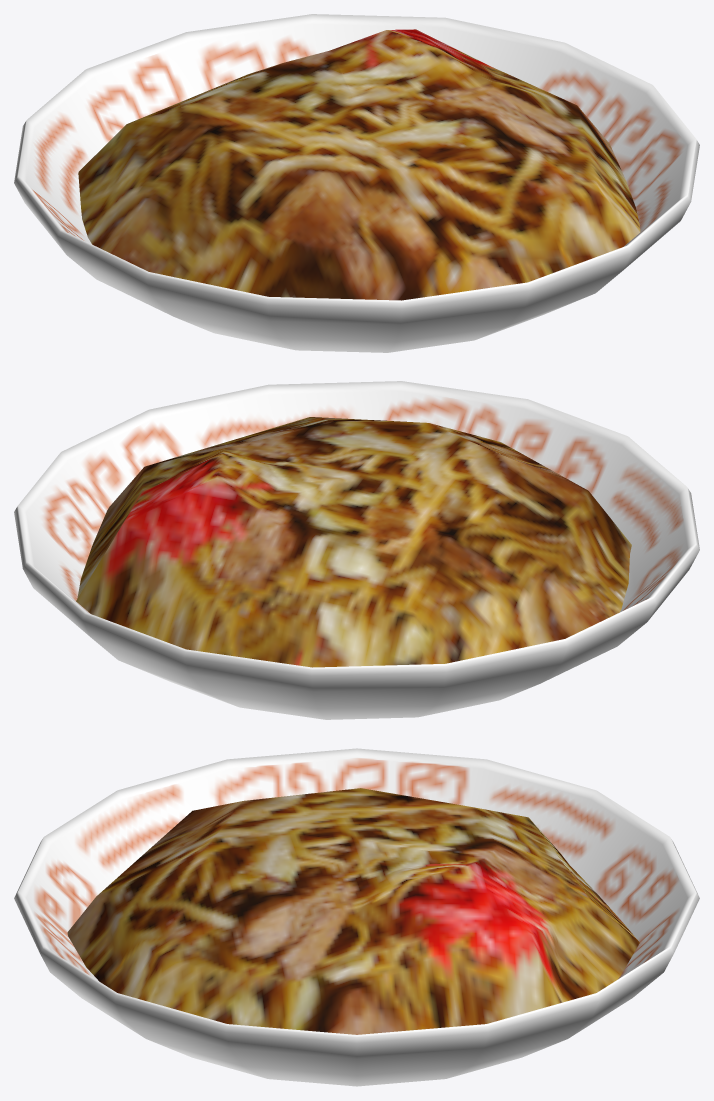
File: Yakisoba.glb
3 views of the same model, one above another, from view 1: azimuth 30°, elevation 25°; view 2: azimuth 150°, elevation 25°; view 3: azimuth 270°, elevation 25° (orthographic).
Parts seen in each view (by area): view 1: Sphere, Circle; view 2: Sphere, Circle; view 3: Sphere, Circle.
Part boxes in pixels (<box>): Sphere: <box>78,29,640,300</box>; Circle: <box>14,14,699,352</box>; Sphere: <box>76,417,631,667</box>; Circle: <box>14,381,699,719</box>; Sphere: <box>67,788,639,1034</box>; Circle: <box>14,748,699,1086</box>.
Bounding box in the file's own units: 0.8523 × 0.2228 × 0.8523.
Materials: 2 (2 with a texture image).
